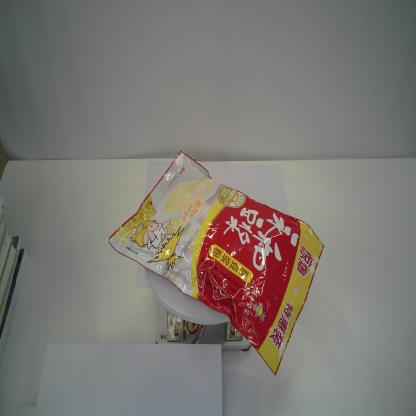Instant Drink: (107, 151, 324, 376)
